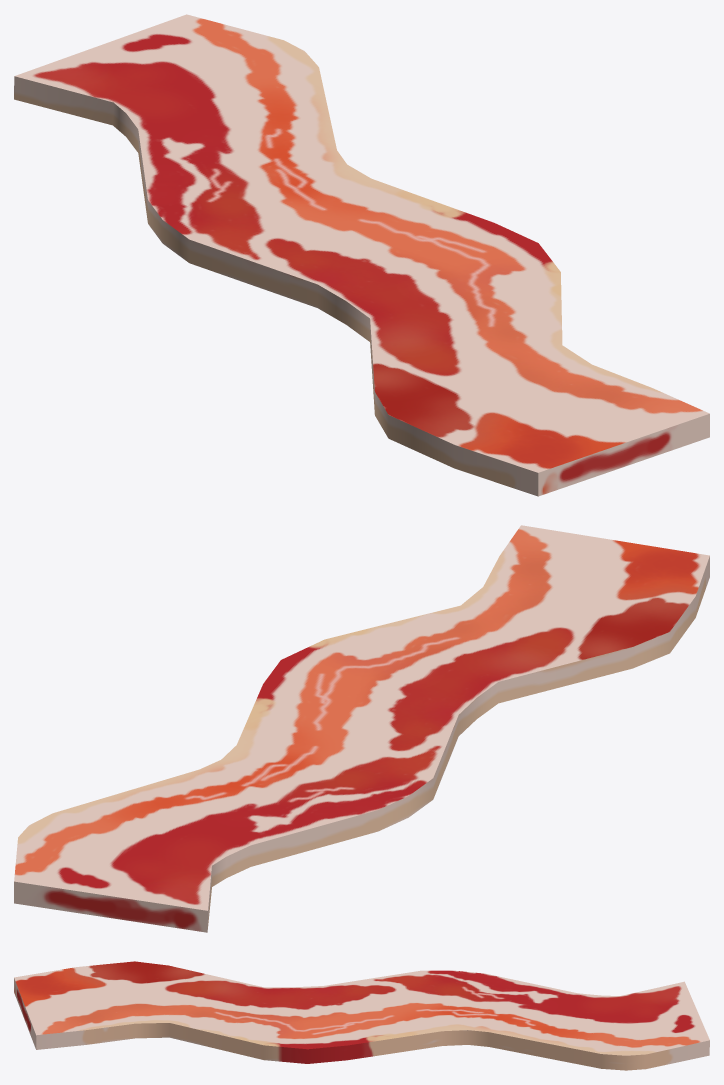
The model's file is Bacon.fbx.
3 renders of one model, top to bottom at view 1: azimuth 30°, elevation 25°; view 2: azimuth 150°, elevation 25°; view 3: azimuth 270°, elevation 25°, orthographic. The views are drawn at different scales.
Parts seen in each view (by area): view 1: pCube1; view 2: pCube1; view 3: pCube1.
Boxes of the visible parts, bbox=[...] form: pCube1: bbox=[14, 14, 709, 496]; pCube1: bbox=[14, 525, 709, 932]; pCube1: bbox=[14, 961, 709, 1070].
Bounding box in the file's own units: 0.2733 × 0.0205 × 0.8516.
Materials: 1 (1 with a texture image).
